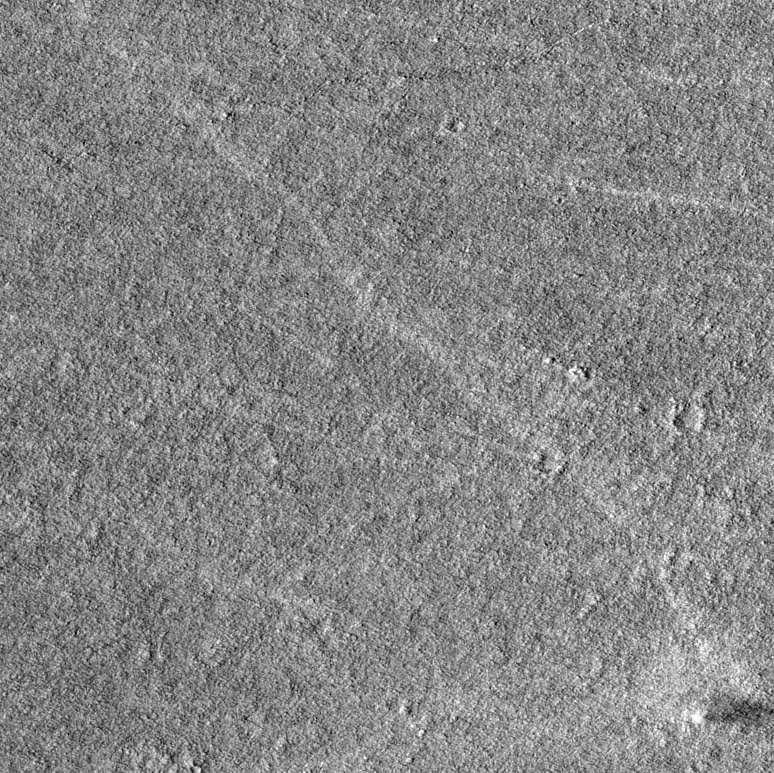dust_devil: (689, 698, 774, 730)
